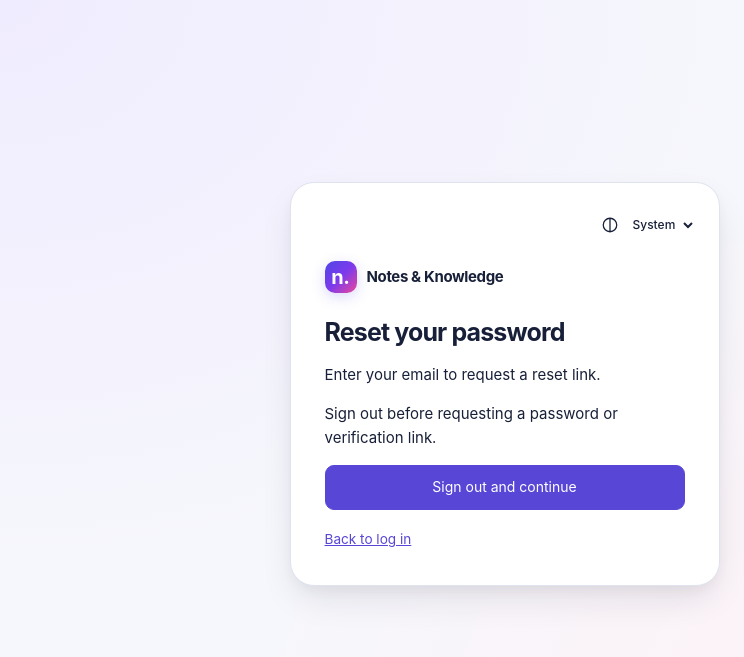
Test: authentication browser journey › keeps recovery requests inaccessible when logout fails
Click the button "Sign out and continue" at (504, 488), box [324, 465, 684, 510]
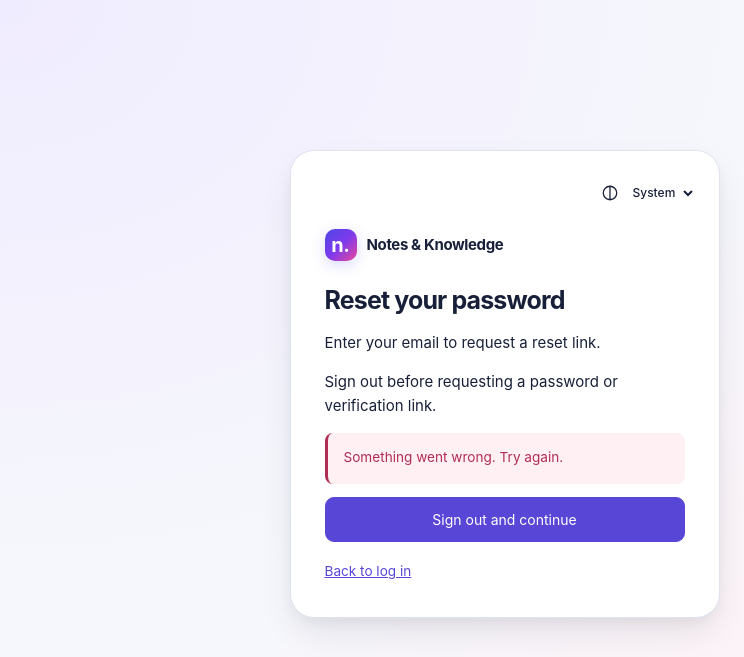
Now the message "Something went wrong. Try again." is shown, box [324, 433, 684, 484]
